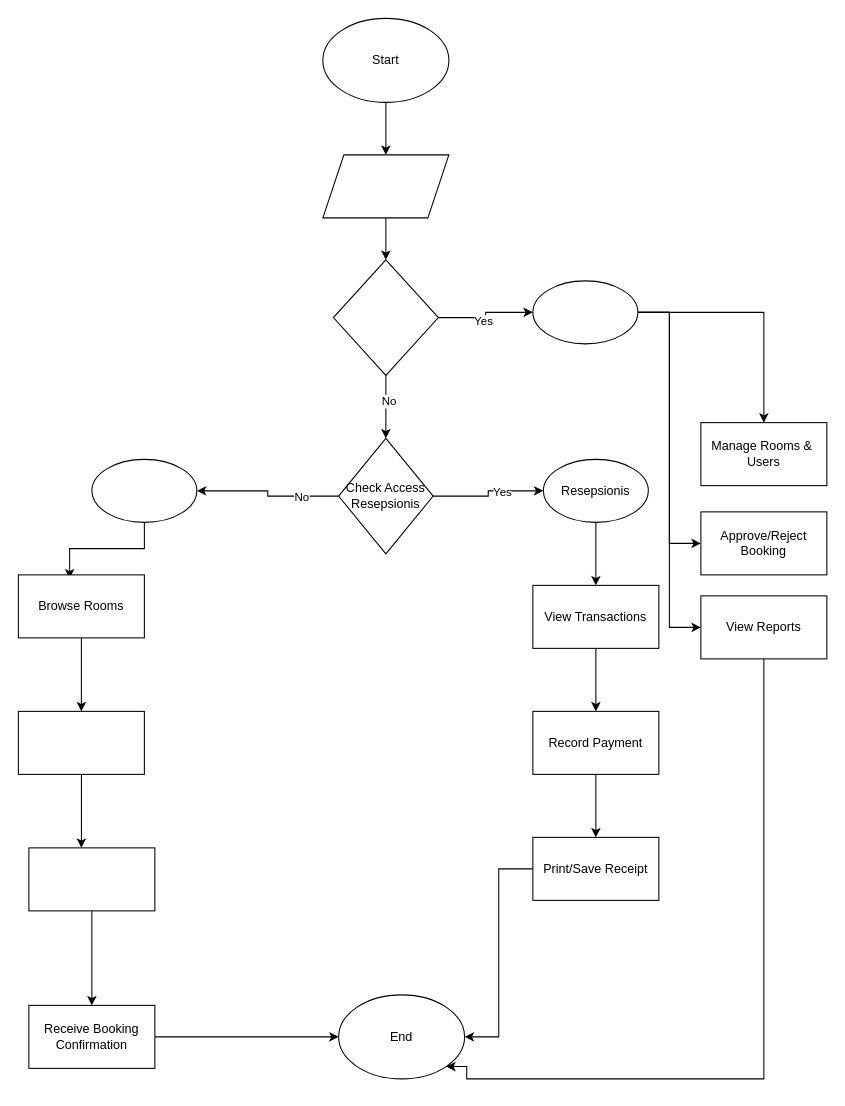
Some shapes in this 845 by 1106 pixel diagram are drawn without their labels. The shapes that lost their labels are listed below. From the top down, each one's box as (x1, y1, x2, y2) in pixels, then its label:
(322, 154, 449, 218): Login
(332, 259, 438, 375): Check Access Admin
(532, 280, 638, 344): Admin
(91, 458, 197, 522): User
(17, 710, 144, 774): Make Booking
(28, 847, 155, 911): Make Payment
